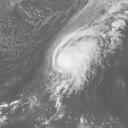cyclone: (51, 26, 105, 80)
